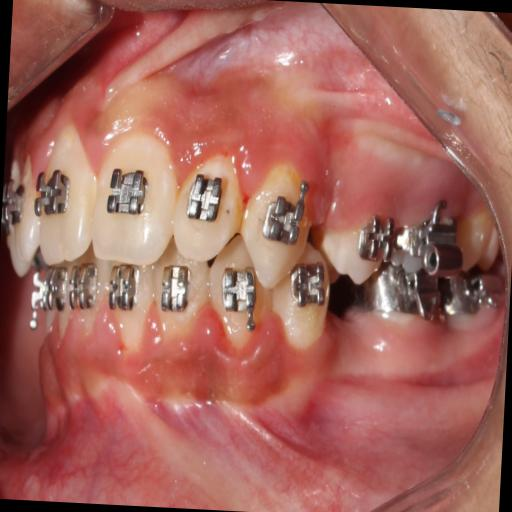correct_brace: (320, 206, 394, 286), (106, 161, 152, 225), (260, 191, 308, 249), (184, 171, 228, 226), (33, 165, 72, 223)
incorrect_brace: (171, 151, 247, 265), (358, 212, 394, 264)
